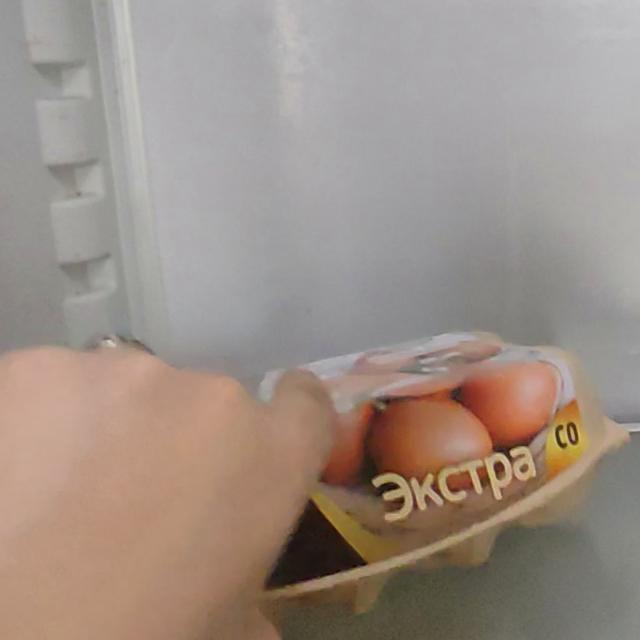egg: (33, 310, 621, 640)
